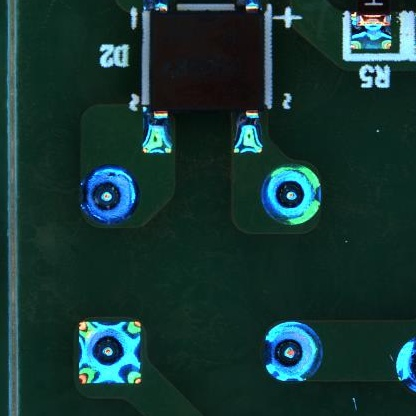spot: (261, 163, 322, 227), (78, 164, 139, 224), (264, 322, 323, 383), (81, 322, 140, 380)
